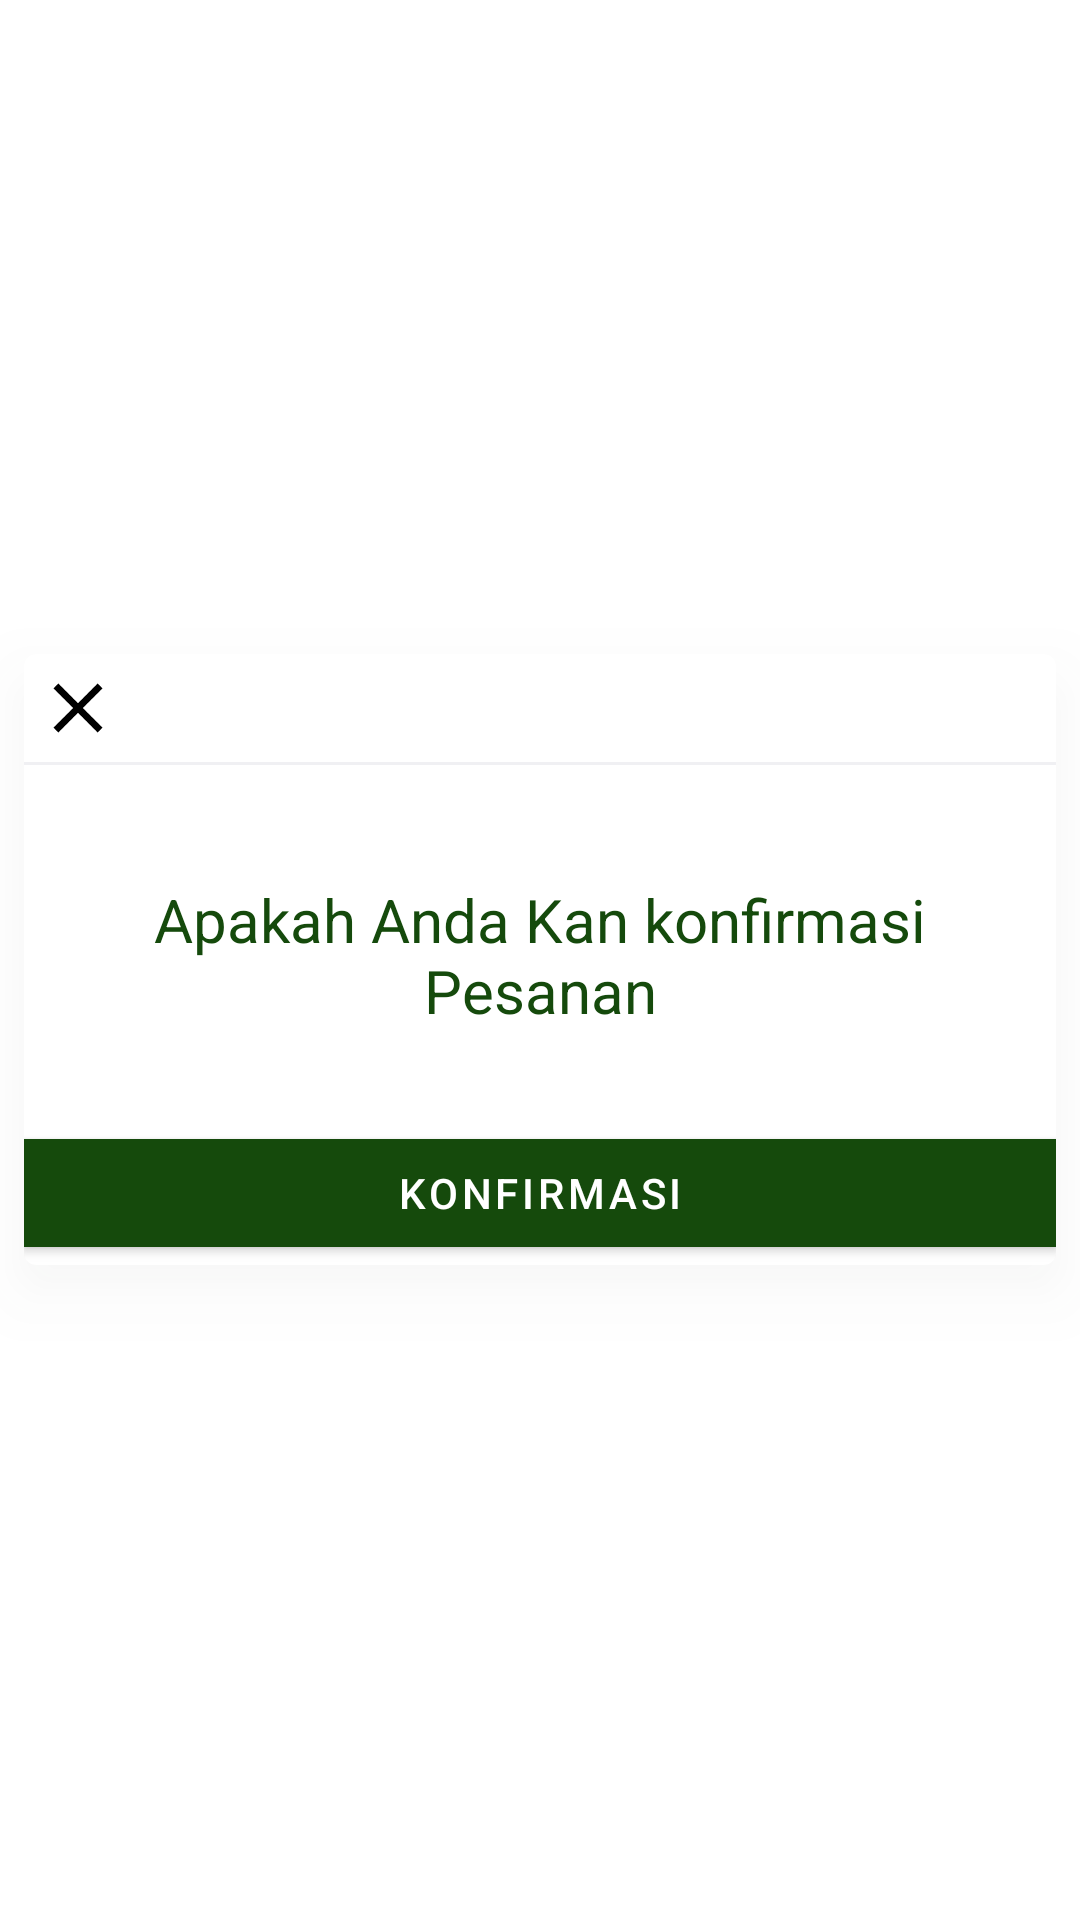

Point at icon controls on the screen. Image size 1080px x 1920px, points as (x,y).
close: (78,708)
